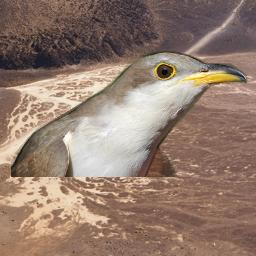Cuckoo: (11, 51, 247, 177)
